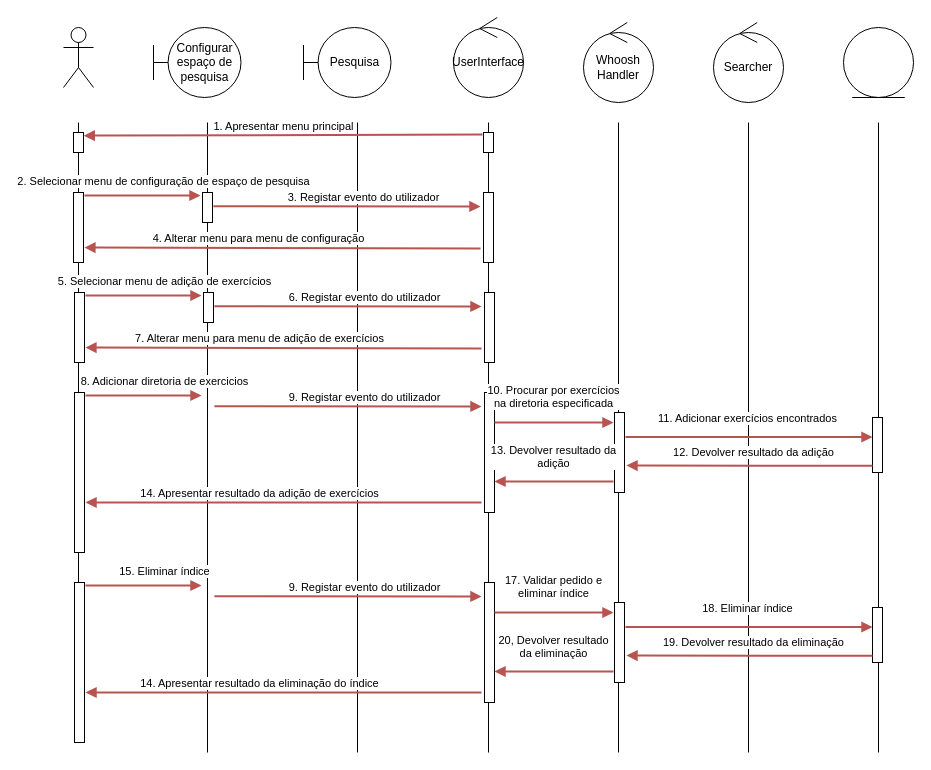
Image size: 931x770. Some labels were removed from this diagram. The centre of each missing label's shape, as x and y in pixels:
"Ficheiro de índices" goes at (878,62).
"Utilizador" goes at (78,57).
